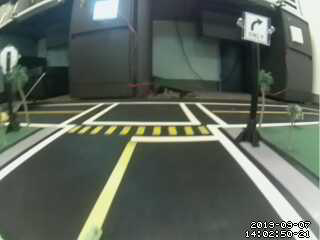Right_only_sign: (245, 16, 270, 43)
